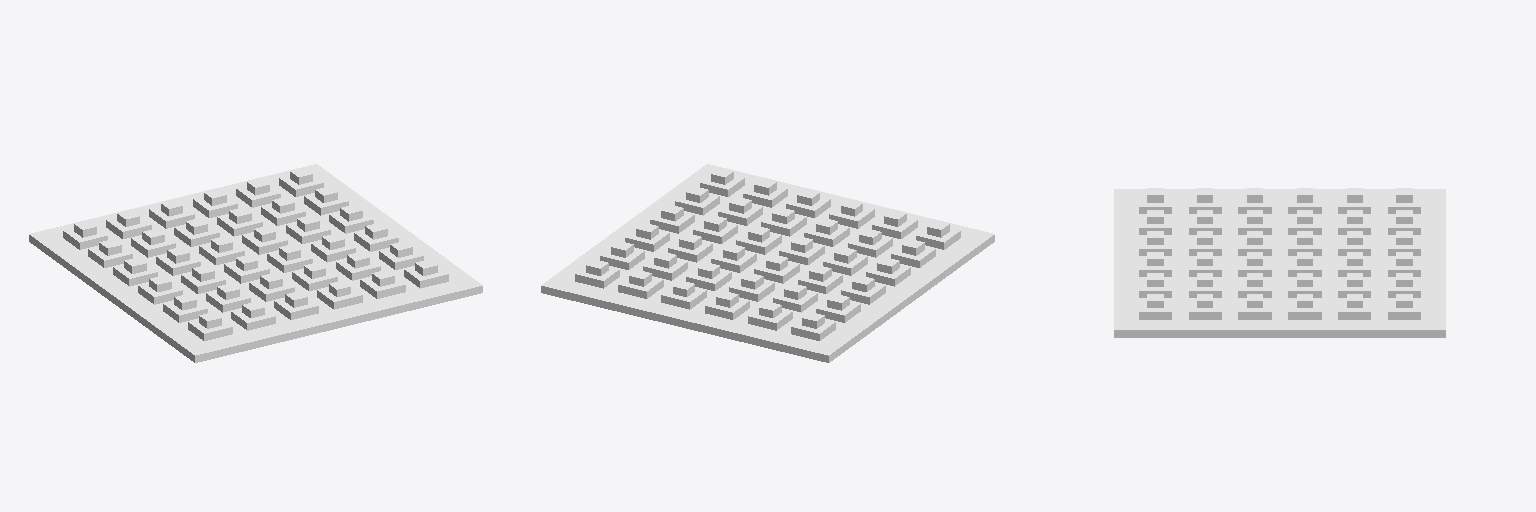
Rendered from SpikesTrap.obj.
3 renders of one model, left to right at view 1: azimuth 30°, elevation 25°; view 2: azimuth 150°, elevation 25°; view 3: azimuth 270°, elevation 25°, orthographic.
Size of the model in its own units: 40 by 3 by 40.